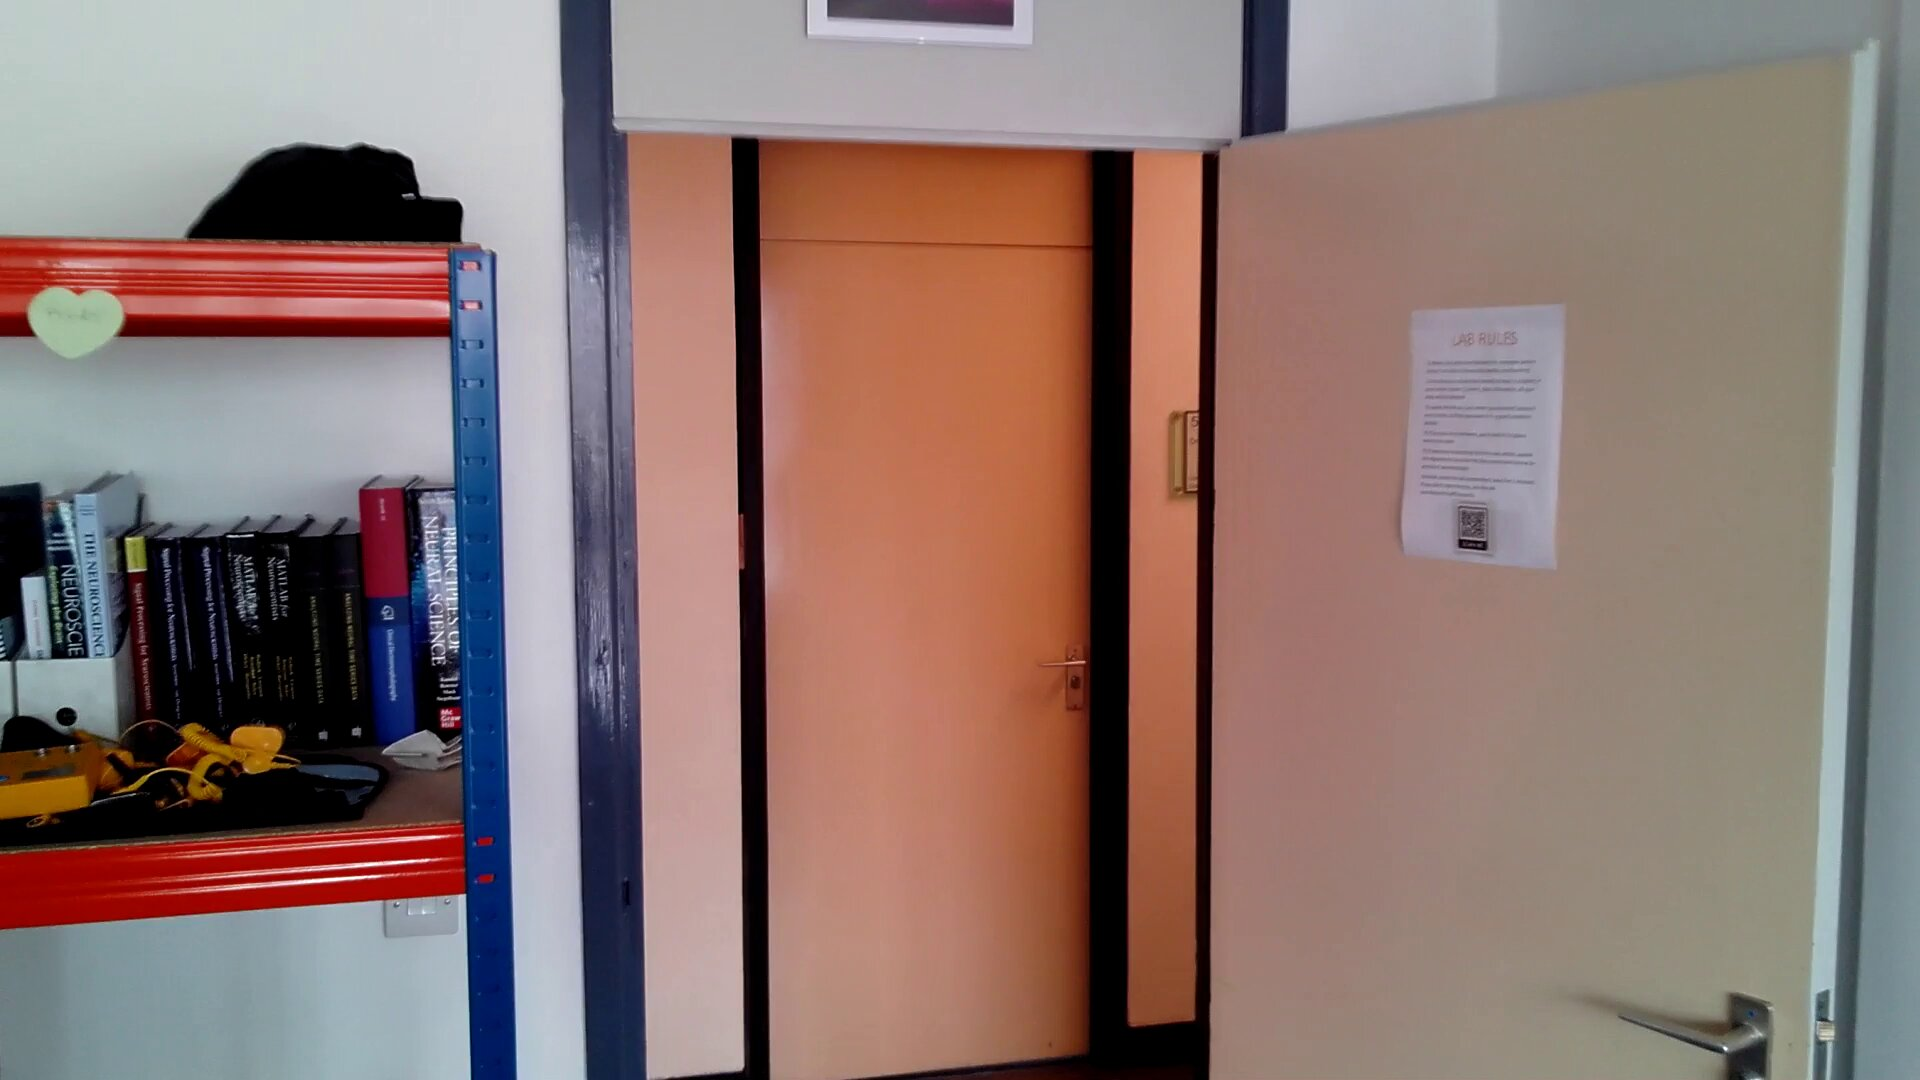Door: (1207, 127, 1865, 1077), (723, 225, 1158, 1080)
